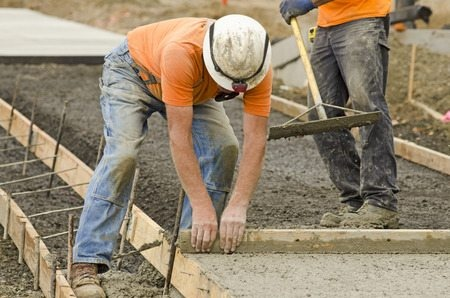white: (199, 12, 276, 99)
